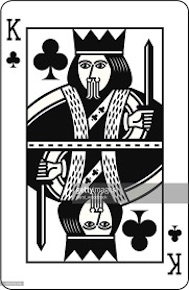KingOfClubs: (2, 1, 188, 290)
